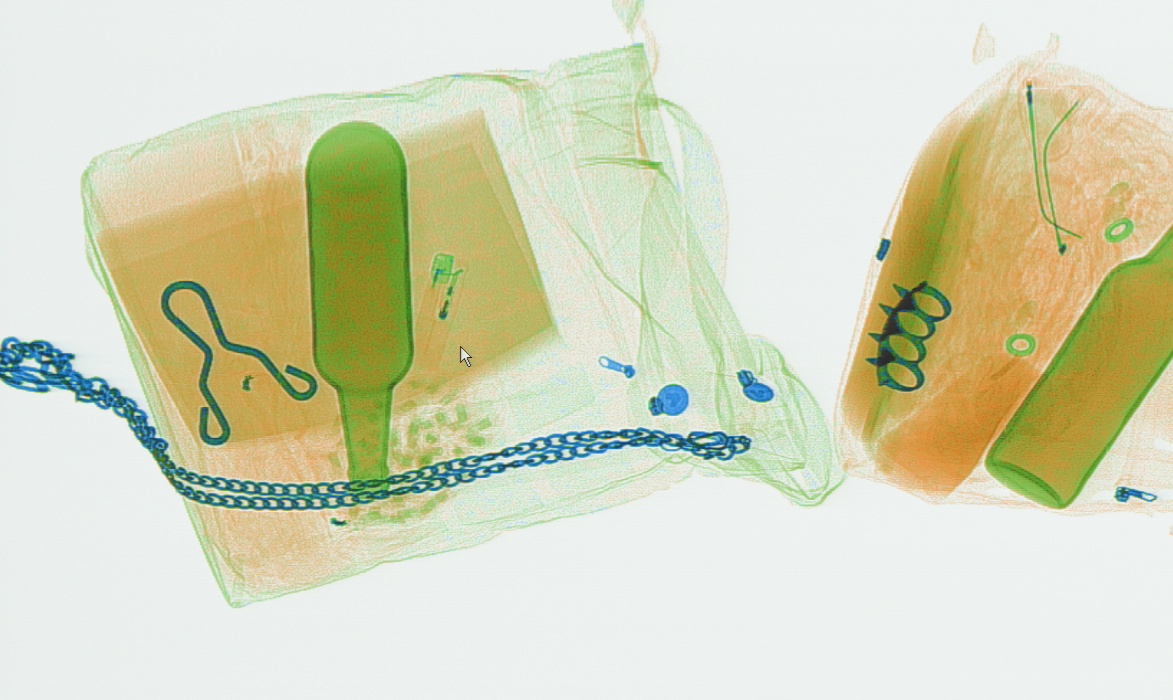firecrackers: (289, 358, 498, 533)
lighter: (405, 250, 469, 372)
slingshot: (159, 275, 319, 447)
